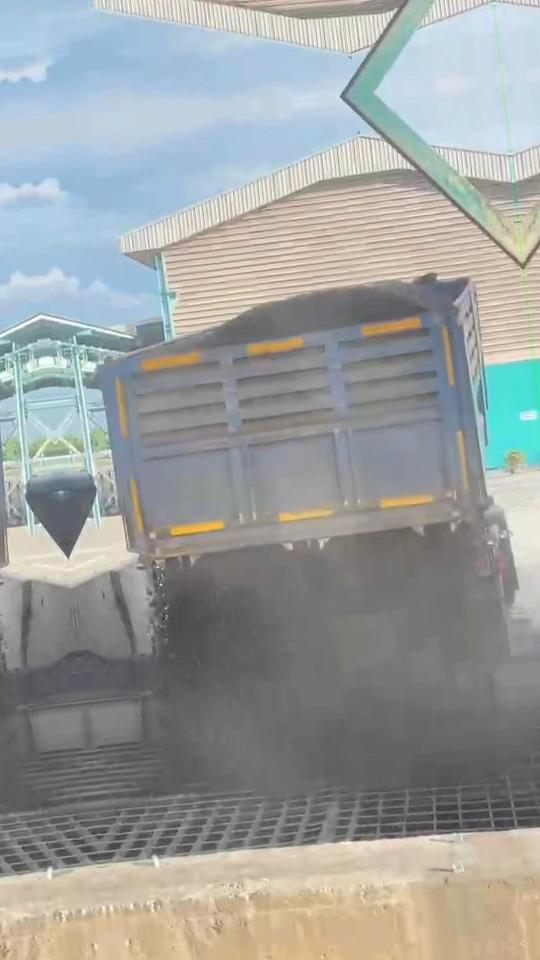gravel: (163, 520, 525, 791), (222, 287, 376, 340)
